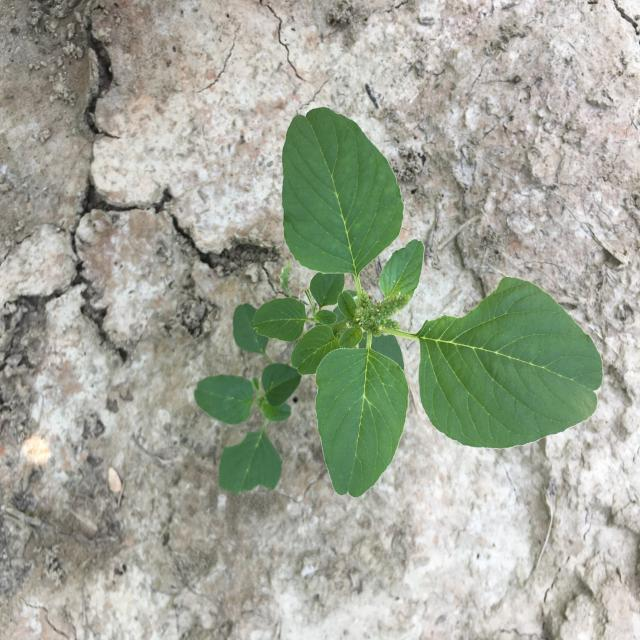PalmerAmaranth: (194, 107, 603, 495)
